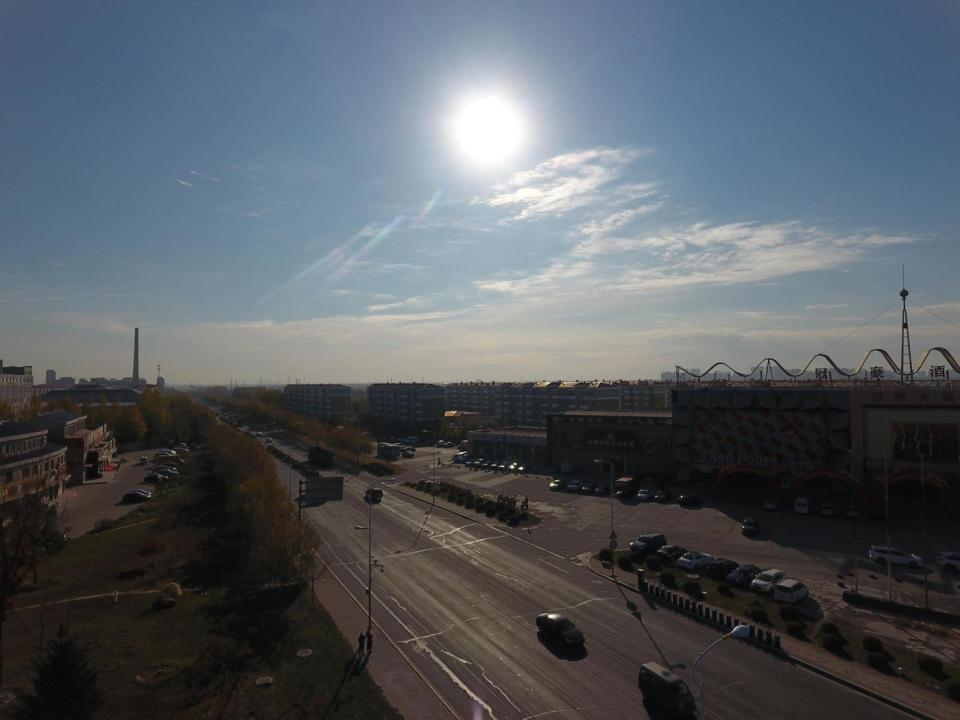bus: (615, 474, 640, 496), (377, 442, 401, 458), (157, 454, 184, 465), (461, 439, 476, 450)
car: (536, 611, 586, 648), (751, 569, 787, 595), (775, 578, 808, 605), (630, 532, 667, 556), (726, 564, 763, 586), (678, 552, 714, 570), (707, 557, 739, 577), (936, 550, 960, 573), (657, 545, 688, 562), (741, 516, 759, 535), (122, 492, 152, 502), (794, 496, 809, 514), (678, 495, 702, 506), (143, 474, 169, 483), (364, 487, 382, 500), (636, 488, 653, 501), (819, 502, 834, 516), (655, 491, 672, 503), (842, 505, 859, 517), (549, 479, 567, 490), (152, 466, 176, 474), (154, 468, 176, 476), (167, 447, 188, 455), (568, 480, 583, 491), (158, 449, 176, 458), (155, 452, 175, 460), (580, 483, 596, 493), (153, 470, 179, 476), (129, 490, 151, 497), (595, 484, 609, 495), (158, 462, 178, 469), (764, 499, 776, 510), (518, 464, 532, 473), (645, 471, 656, 482), (503, 456, 518, 464), (465, 459, 479, 466), (472, 459, 486, 466), (497, 464, 512, 470), (505, 464, 520, 470), (402, 451, 414, 458), (480, 462, 494, 468), (489, 462, 503, 468), (402, 446, 415, 452), (381, 435, 393, 441), (424, 440, 436, 446), (140, 456, 148, 464), (444, 441, 454, 447), (436, 441, 447, 446), (396, 437, 406, 442), (400, 439, 410, 444), (178, 443, 186, 449), (394, 446, 406, 450), (458, 443, 466, 449), (389, 437, 397, 442), (189, 443, 196, 448), (255, 431, 262, 436), (266, 438, 272, 442)
truck: (307, 445, 333, 466), (560, 461, 576, 474), (550, 465, 564, 473), (168, 440, 174, 446)
van: (638, 661, 696, 716), (870, 545, 924, 568), (453, 451, 467, 462), (460, 453, 474, 462), (406, 436, 418, 444)
